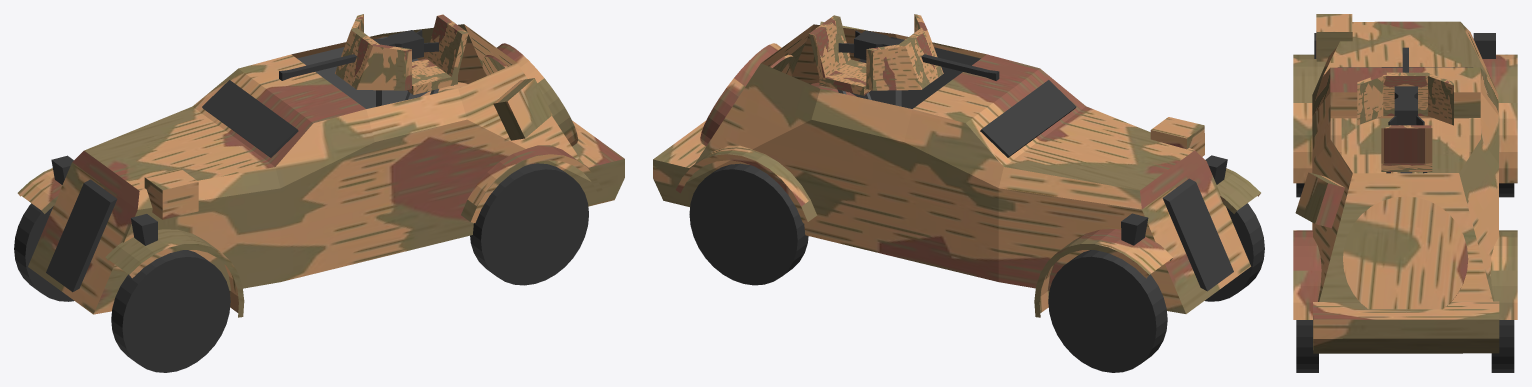
The model's file is ss_car_2-2.fbx.
3 views of the same model, side by side, from view 1: azimuth 30°, elevation 25°; view 2: azimuth 150°, elevation 25°; view 3: azimuth 270°, elevation 25° (orthographic).
Parts seen in each view (by area): view 1: Cube, Cylinder.007, Cube.001; view 2: Cube, Cylinder.007, Cube.001; view 3: Cube, Cube.001, Cylinder.007.
Boxes of the visible parts, left/top/right/bottom form: Cube: left=17, top=24, right=624, bottom=317; Cylinder.007: left=14, top=163, right=588, bottom=372; Cube.001: left=279, top=14, right=468, bottom=106; Cube: left=653, top=21, right=1260, bottom=317; Cylinder.007: left=689, top=163, right=1264, bottom=372; Cube.001: left=809, top=14, right=999, bottom=106; Cube: left=1293, top=14, right=1517, bottom=353; Cube.001: left=1357, top=47, right=1453, bottom=173; Cylinder.007: left=1296, top=183, right=1514, bottom=372.
Bounding box in the file's own units: 772 × 2073 × 896.
3 materials, 1 textured.
